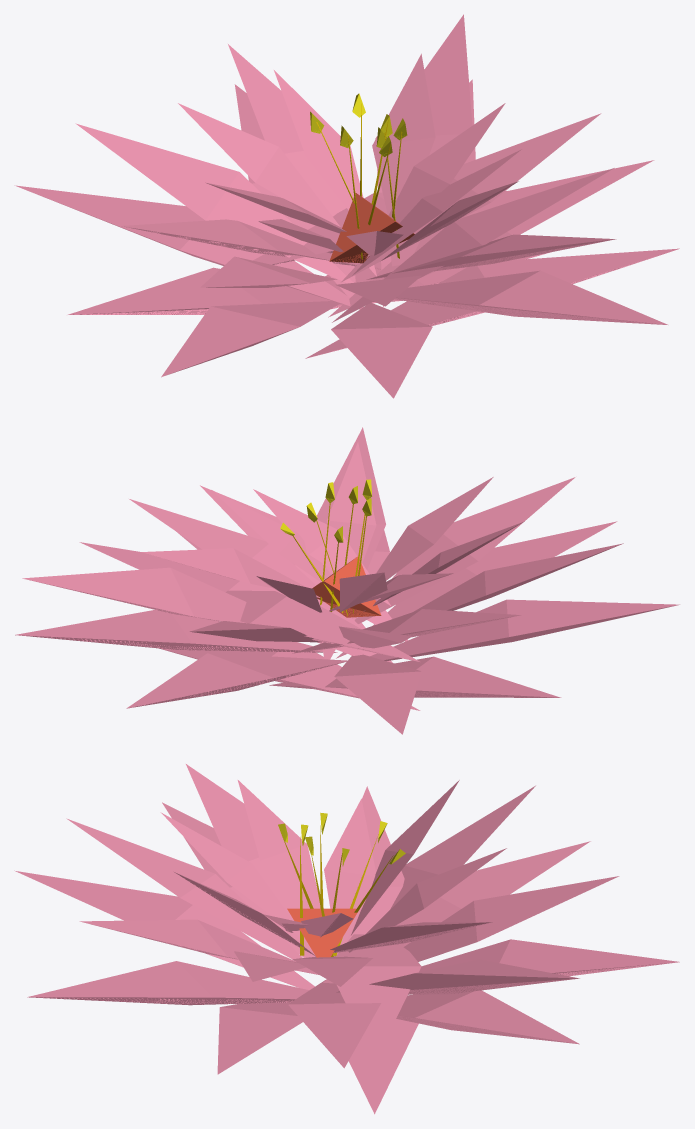
Rendered from Flor_loto.glb.
The picture shows the model from 3 angles, top to bottom: view 1: azimuth 30°, elevation 25°; view 2: azimuth 150°, elevation 25°; view 3: azimuth 270°, elevation 25°; orthographic projection. The views are drawn at different scales.
Parts seen in each view (by area): view 1: Esfera.010; view 2: Esfera.010; view 3: Esfera.010.
Part boxes in pixels (x1=…): Esfera.010: x1=14, y1=14, x2=679, y2=398; Esfera.010: x1=15, y1=427, x2=679, y2=734; Esfera.010: x1=14, y1=764, x2=679, y2=1114.
Size of the model in its own units: 1.89 by 0.6596 by 2.
